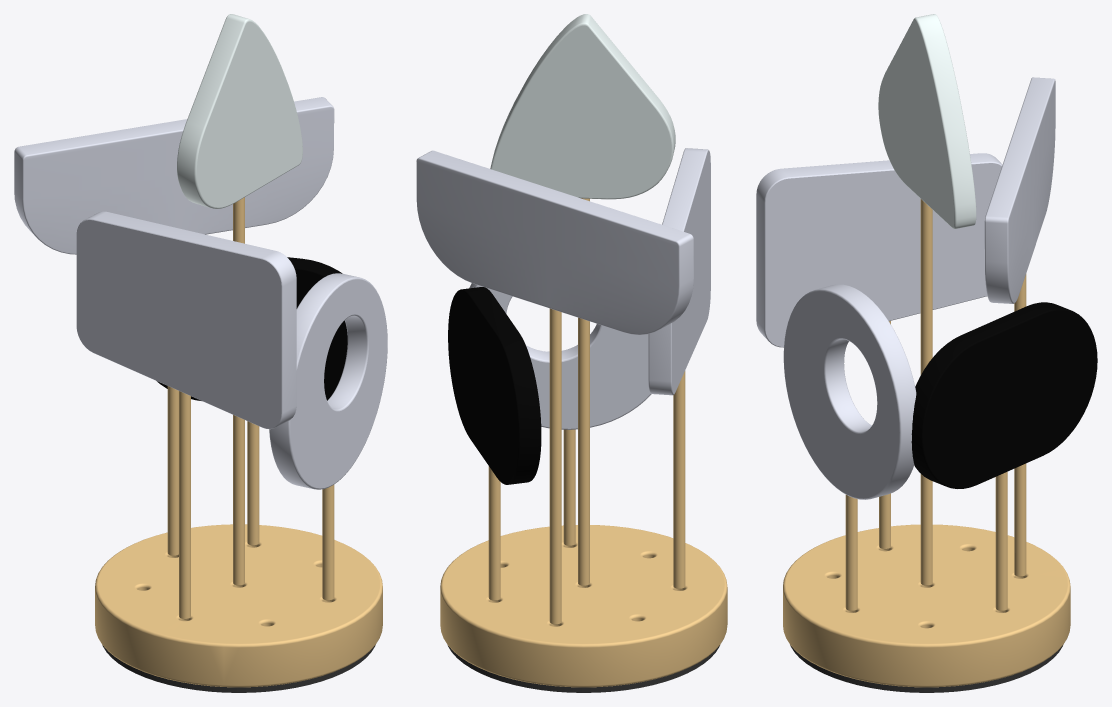
The model's file is Sculptures.glb.
The picture shows the model from 3 angles, left to right: view 1: azimuth 30°, elevation 25°; view 2: azimuth 150°, elevation 25°; view 3: azimuth 270°, elevation 25°; orthographic projection.
Visible parts, largest first — view 1: Base, Key_Stone, Oblong, Concenteric_Circle, Cone, Rod_02, Rod_04, Racetrack, Rod_03, rod_01.001, rod_01; view 2: Base, Oblong, Cone, Racetrack, Key_Stone, Concenteric_Circle, Rod_03, Rod_04, Rod_02, rod_01.001, rod_01; view 3: Base, Key_Stone, Racetrack, Concenteric_Circle, Cone, Oblong, Rod_04, rod_01.001, Rod_03, rod_01, Rod_02.
Boxes of the visible parts, x1,y1,x2,y2 form: Base: [95, 524, 382, 692]; Key_Stone: [76, 211, 296, 429]; Oblong: [14, 97, 334, 254]; Concenteric_Circle: [269, 273, 387, 489]; Cone: [177, 14, 302, 208]; Rod_02: [179, 391, 190, 619]; Rod_04: [233, 197, 244, 586]; Racetrack: [157, 257, 347, 400]; Rod_03: [167, 386, 178, 556]; rod_01.001: [247, 421, 259, 546]; rod_01: [322, 485, 334, 601]; Base: [440, 525, 727, 692]; Oblong: [416, 150, 693, 334]; Cone: [490, 14, 675, 199]; Racetrack: [448, 287, 541, 484]; Key_Stone: [648, 148, 710, 395]; Concenteric_Circle: [469, 283, 651, 429]; Rod_03: [549, 308, 561, 625]; Rod_04: [578, 198, 589, 586]; Rod_02: [673, 371, 685, 589]; rod_01.001: [488, 466, 500, 601]; rod_01: [563, 429, 575, 546]; Base: [783, 524, 1070, 692]; Key_Stone: [756, 153, 1002, 347]; Racetrack: [911, 302, 1097, 488]; Concenteric_Circle: [783, 284, 916, 499]; Cone: [878, 14, 976, 228]; Oblong: [984, 77, 1055, 303]; Rod_04: [920, 199, 932, 586]; rod_01.001: [995, 471, 1007, 611]; Rod_03: [1014, 274, 1026, 577]; rod_01: [845, 495, 857, 611]; Rod_02: [879, 321, 890, 549].
Bounding box in the file's own units: 0.0921 × 0.1803 × 0.0903.
